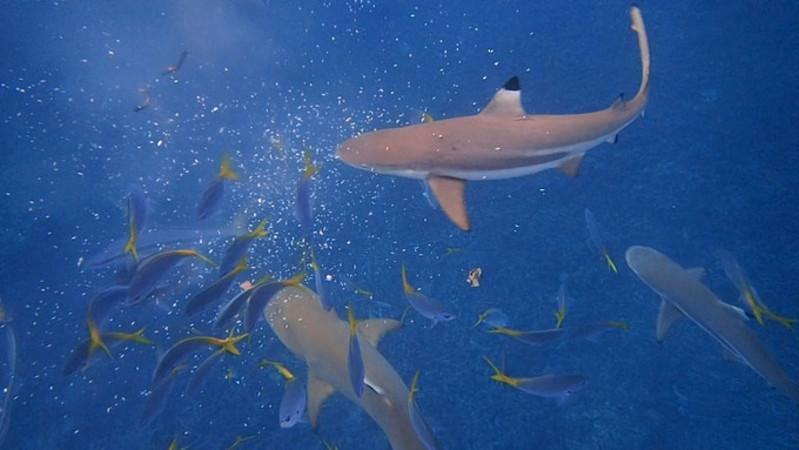fish: (335, 5, 658, 234), (251, 283, 450, 450), (618, 248, 799, 397)
